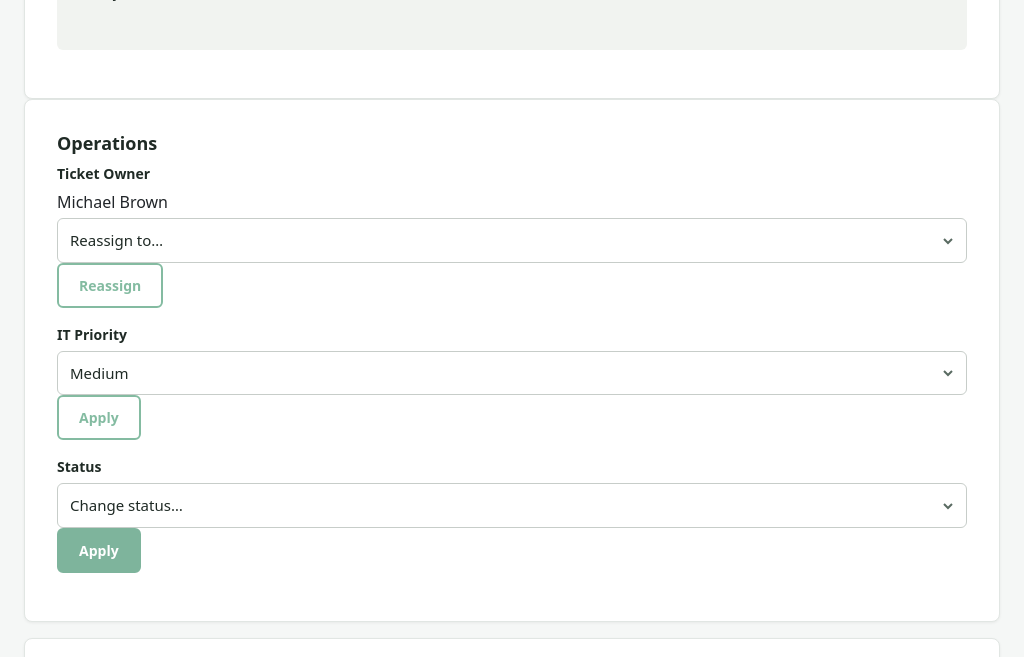
UI-15: Staff detail controls › UI-15: Change IT Priority sends the new value; Apply is disabled until changed (AC-45)
(page scrolled)
Expected: the button with aria-label "apply it priority" is disabled, [57,395,141,440]
Select "High" in the dropdown labelled "IT Priority" at (512, 373), box [57,351,967,395]
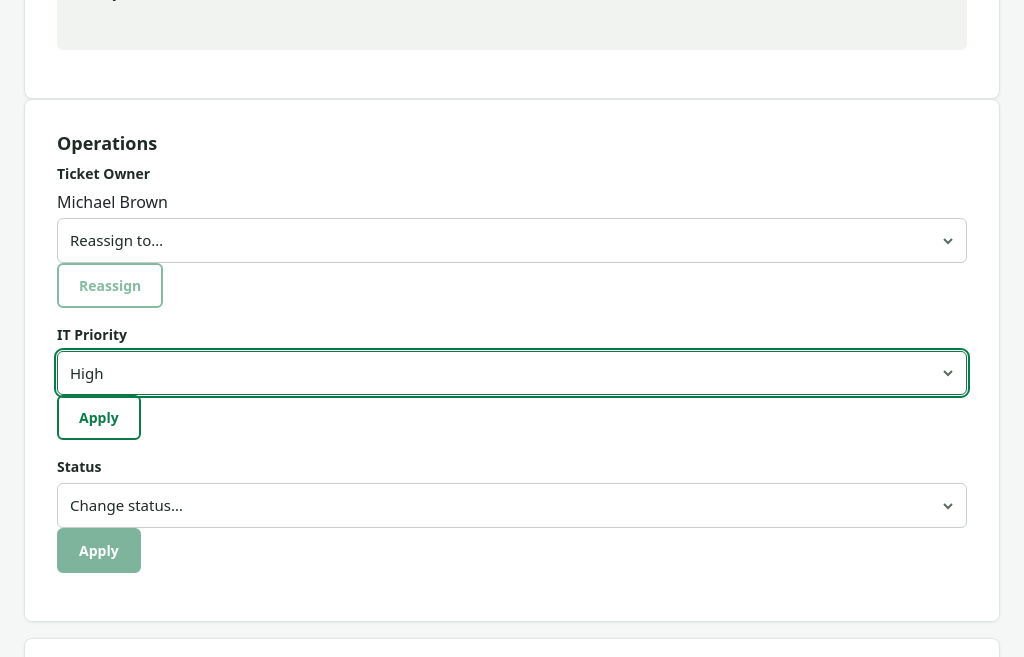
Click the button with aria-label "apply it priority" at (99, 418), box [57,395,141,440]
(page scrolled)
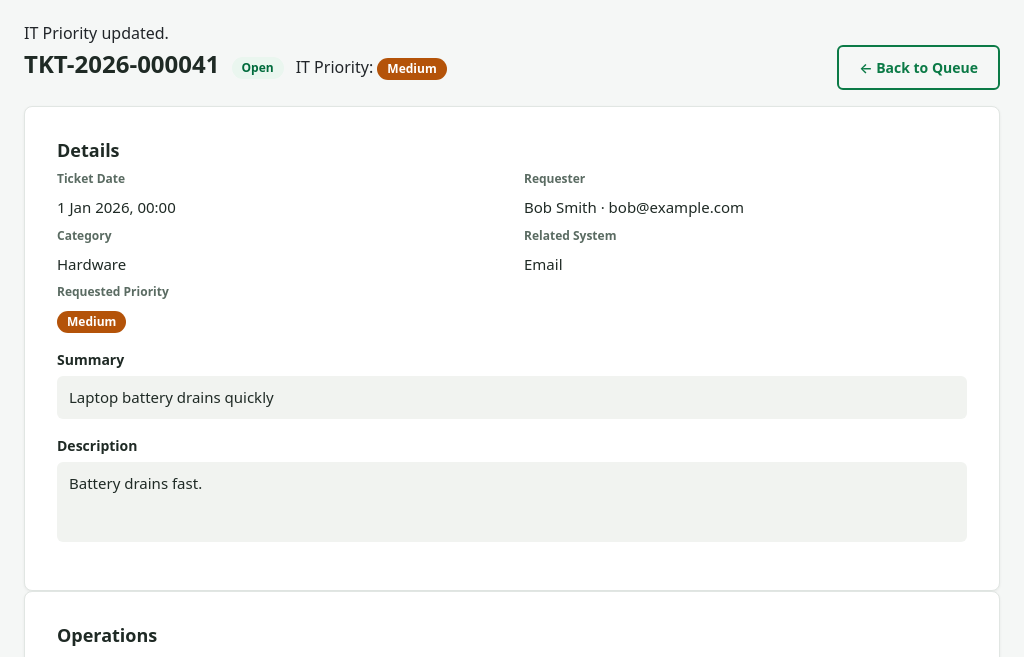
Now the message with test id "toast" shows "Priority updated", box [24,22,169,44]
